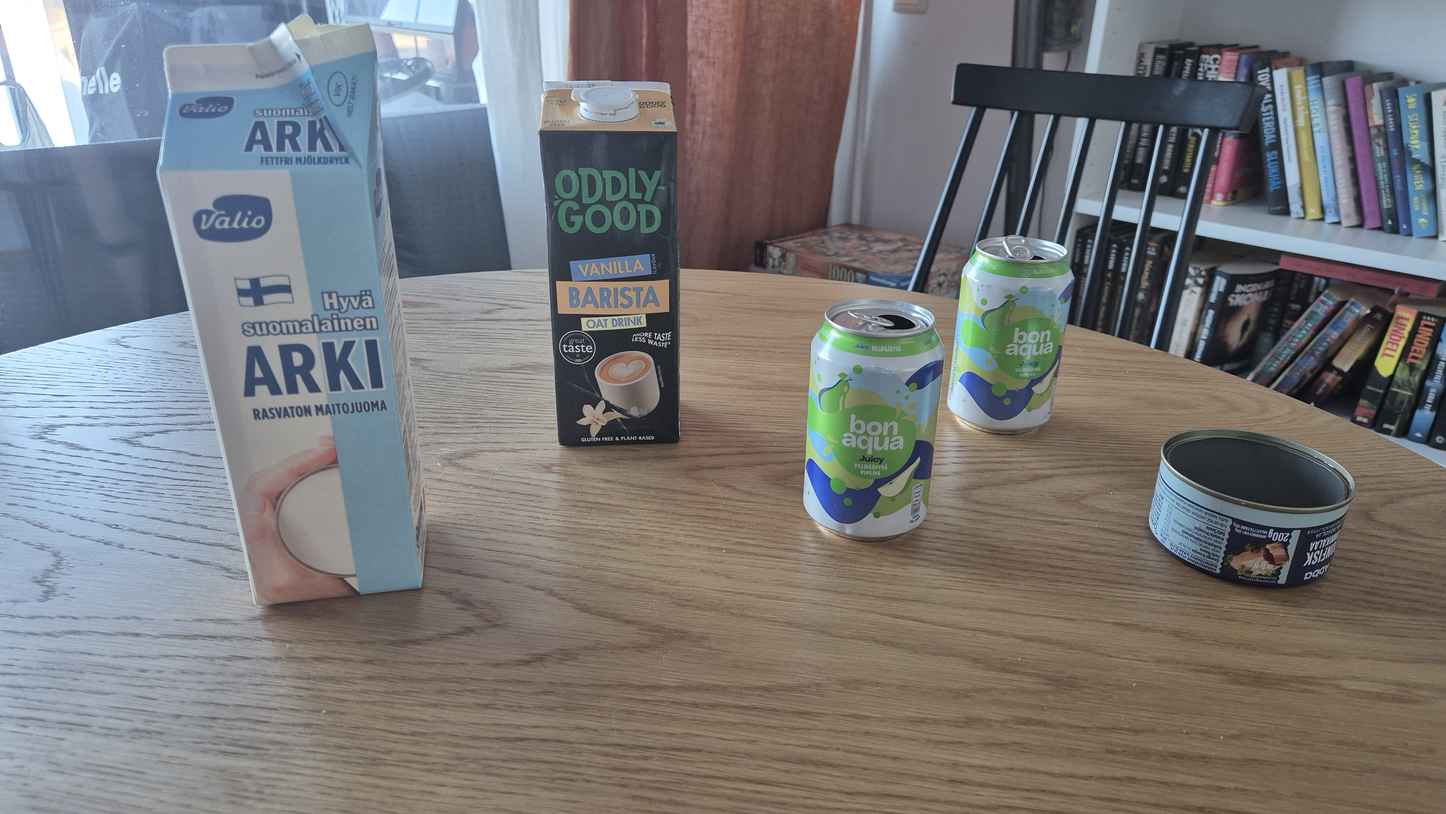Dryckeskartong: (155, 14, 427, 607), (538, 80, 681, 445)
Konservburk: (1148, 428, 1357, 587)
Pantburk: (802, 298, 945, 541), (947, 235, 1074, 435)
